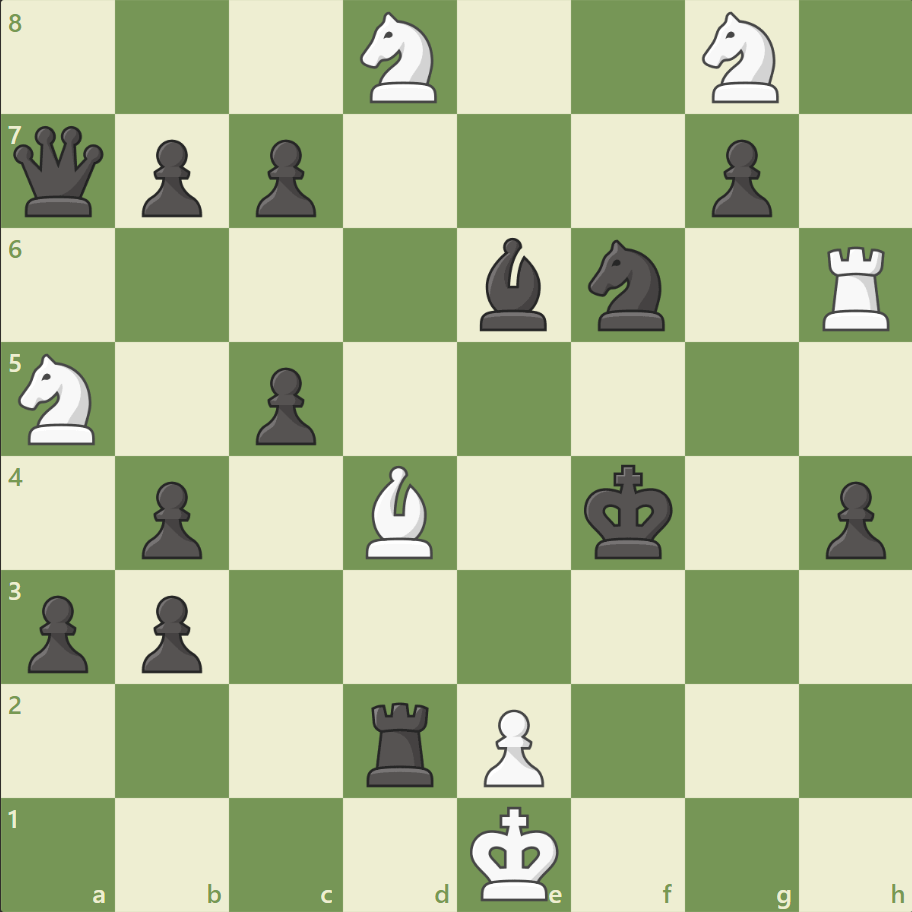B: (358, 460, 442, 563)
K: (465, 798, 565, 906)
N: (351, 7, 449, 110), (692, 7, 789, 110), (11, 348, 108, 450)
P: (474, 700, 549, 791)
R: (814, 239, 897, 336)
b: (471, 233, 555, 336)
k: (579, 458, 679, 566)
n: (579, 234, 676, 337)
p: (133, 132, 208, 223), (247, 132, 322, 223), (701, 132, 776, 223), (247, 359, 322, 450), (133, 473, 208, 564), (20, 586, 95, 677), (133, 586, 208, 677), (815, 473, 889, 564)
q: (10, 122, 109, 222)
r: (360, 693, 442, 790)
